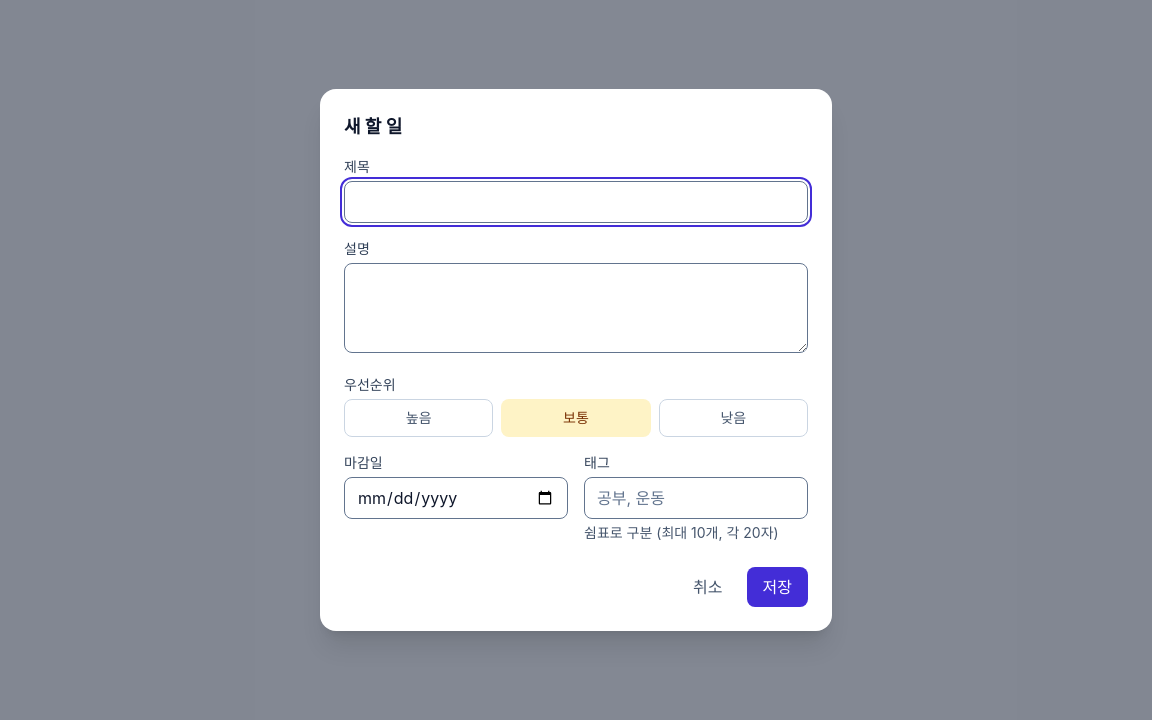
Test: 새 할 일 › 제목이 비면 오류를 보여주고 저장하지 않는다
Step 1. Click the button "저장" → x=777, y=587, box [746,567,808,607]
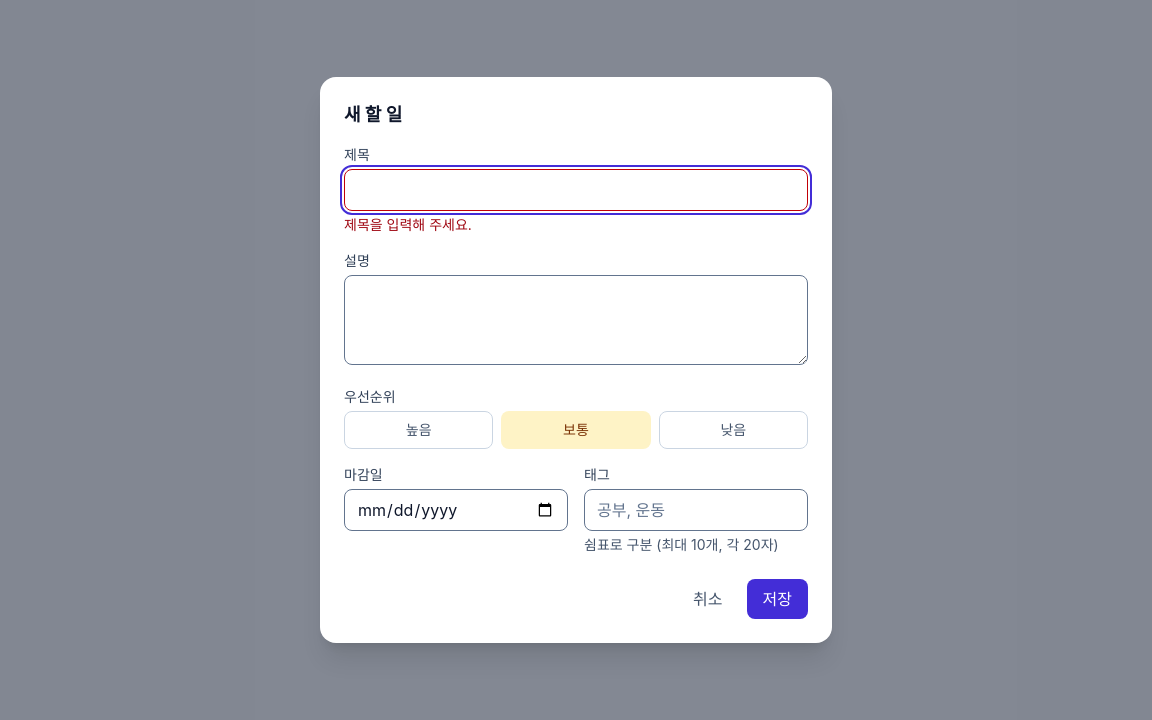
Expected: the text "제목을 입력해 주세요." is shown, [344,216,472,233]
